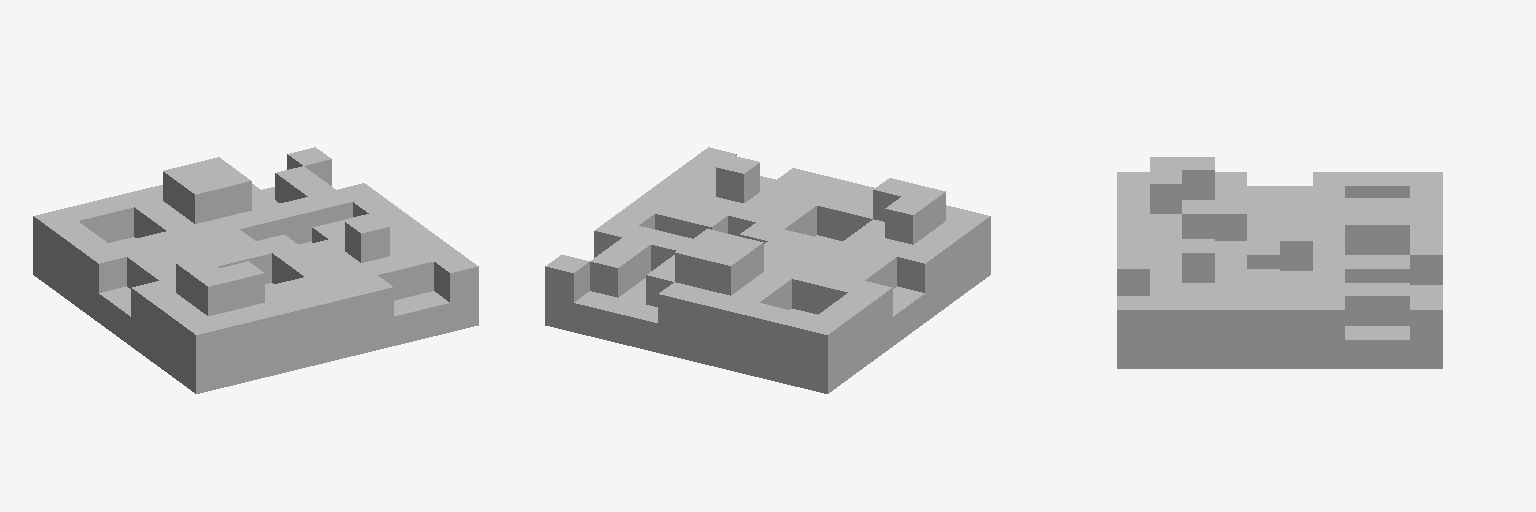
The model's file is dirt.obj.
3 views of the same model, side by side, from view 1: azimuth 30°, elevation 25°; view 2: azimuth 150°, elevation 25°; view 3: azimuth 270°, elevation 25° (orthographic).
Visible parts, largest first — view 1: object 1; view 2: object 1; view 3: object 1.
Part boxes in pixels (x1,y1,x2,y2): object 1: (33,147,478,393); object 1: (545,147,990,393); object 1: (1117,157,1442,368).
Size of the model in its own units: 1 by 0.3 by 1.